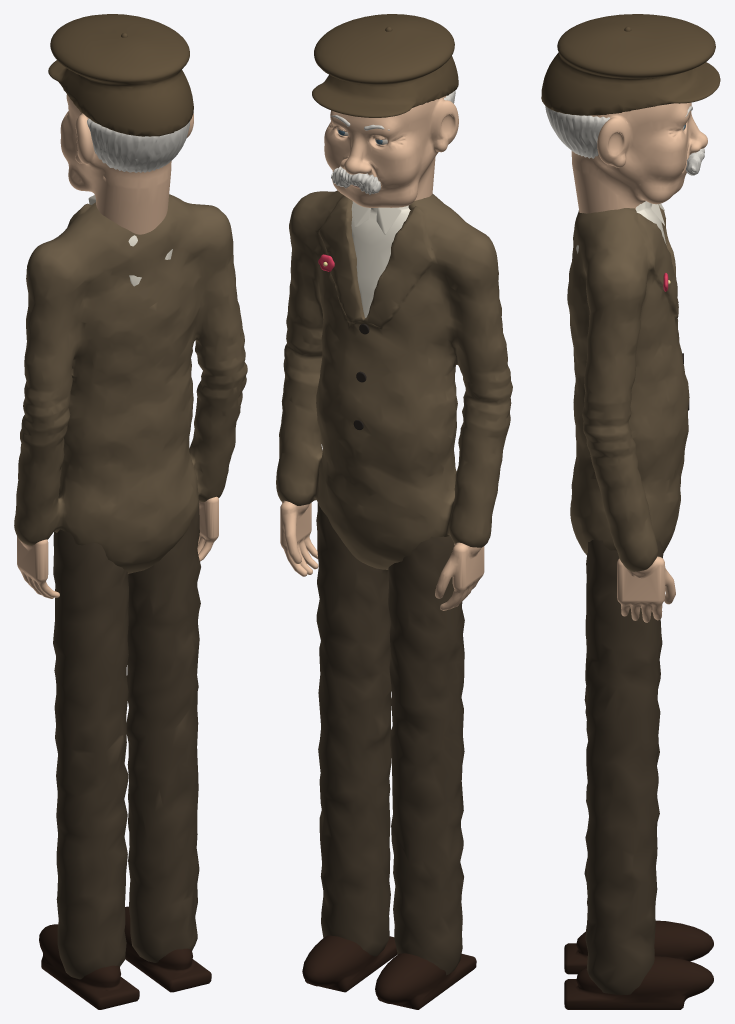
Rendered from thomas_old.fbx.
3 views of the same model, side by side, from view 1: azimuth 30°, elevation 25°; view 2: azimuth 150°, elevation 25°; view 3: azimuth 270°, elevation 25° (orthographic).
Parts seen in each view (by area): view 1: Body, Hat, Head, HandR, HandL; view 2: Body, Hat, Head, HandL, HandR; view 3: Body, Hat, Head, HandL.
Boxes of the visible parts, x1,y1,x2,y2 form: Body: (14,194,247,1009); Hat: (48,14,193,136); Head: (60,95,193,234); HandR: (17,536,59,598); HandL: (197,496,218,561); Body: (276,190,512,1009); Hat: (312,14,458,117); Head: (324,91,458,207); HandL: (280,500,318,576); HandR: (435,542,484,610); Body: (564,201,713,1009); Hat: (541,14,720,115); Head: (545,102,707,213); HandL: (617,556,675,622).
Size of the model in its own units: 0.4292 by 1.76 by 0.2991.
